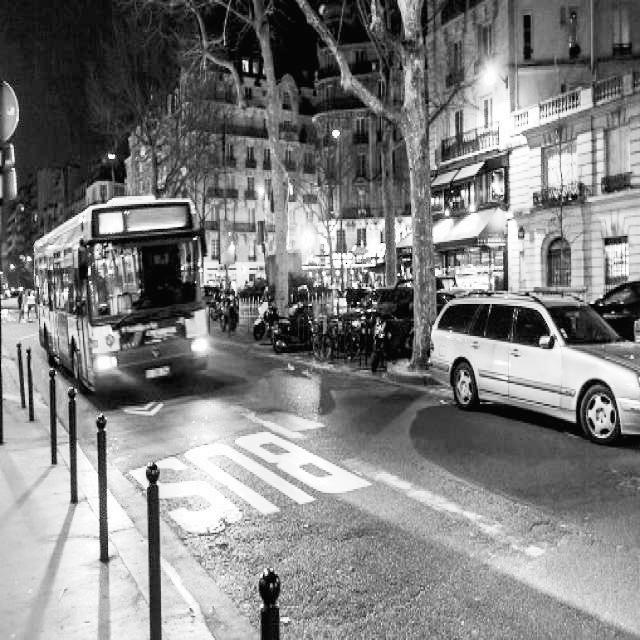Bus: (14, 172, 224, 424)
Car: (426, 276, 640, 460)
Tree: (365, 0, 438, 377), (241, 0, 295, 330)
